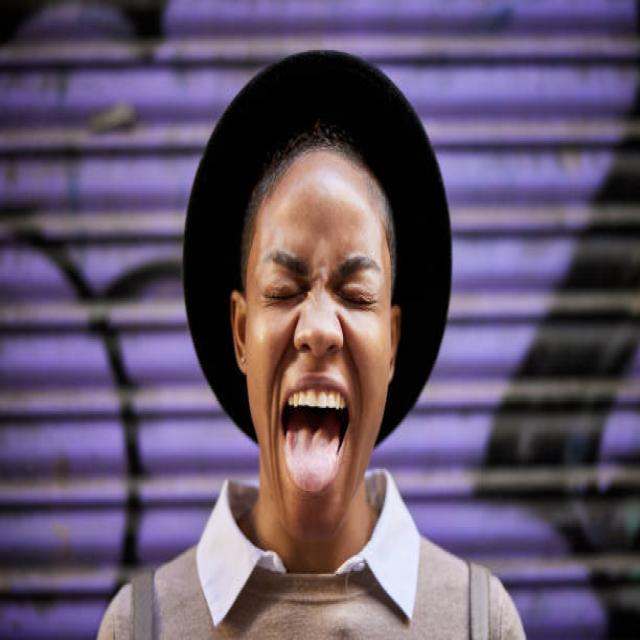tongue: (284, 421, 342, 495)
